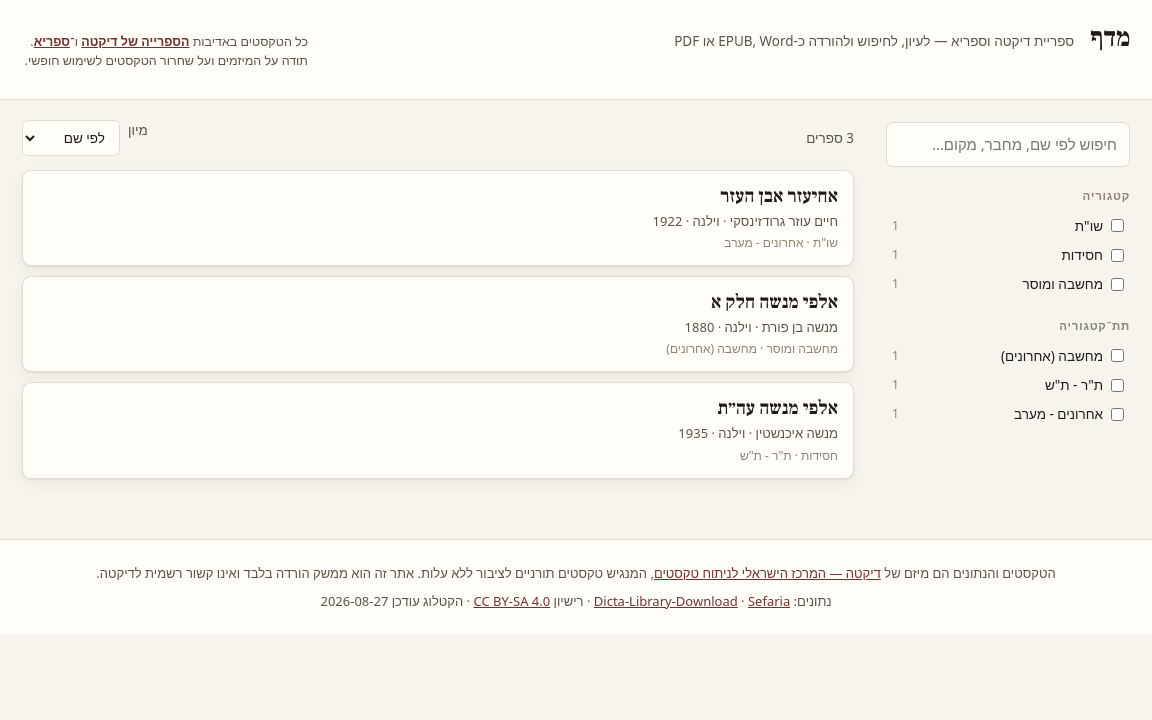
Scenario: book detail and download › opens the book itself, showing its details while the text loads
Step 1. Click the text "אלפי מנשה חלק א" → (774, 302), box [711,290,838,314]
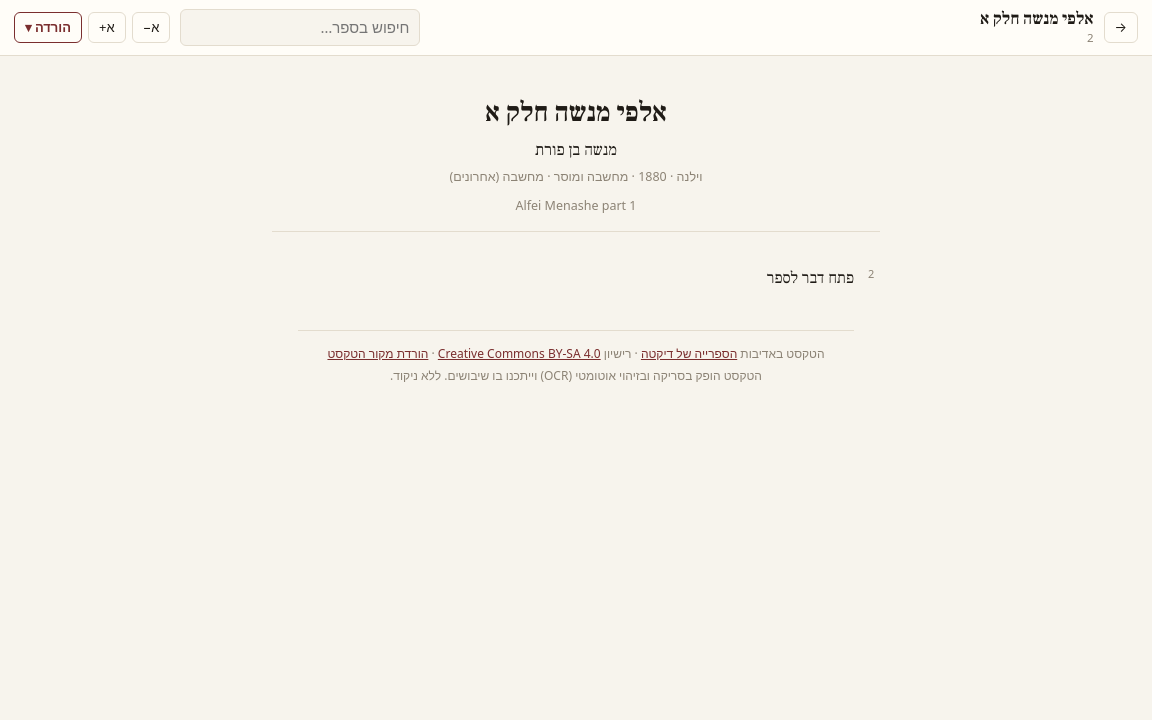
Check: the text "מנשה בן פורת" is shown, box [535,138,617,160]
Check: the text "וילנה · 1880 · מחשבה ומוסר · מחשבה (אחרונים)" is shown, box [450,168,703,185]
Check: the text "פתח דבר לספר" is shown, box [767,268,854,288]
